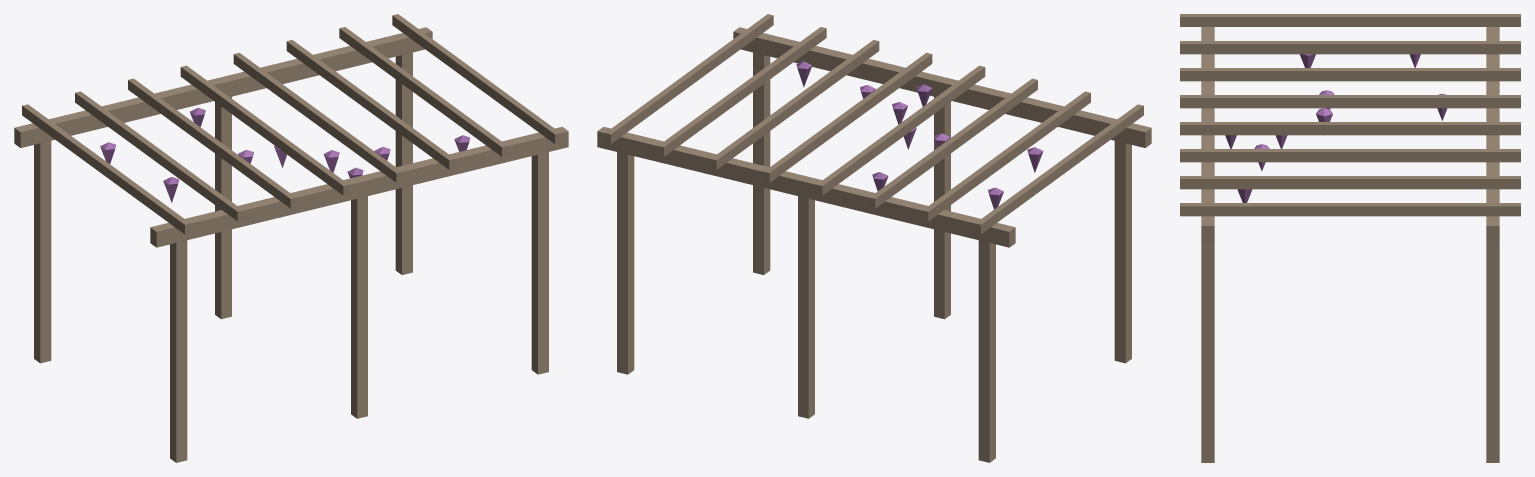
The model's file is SM_BM_BP_GardenPergola.glb.
3 views of the same model, side by side, from view 1: azimuth 30°, elevation 25°; view 2: azimuth 150°, elevation 25°; view 3: azimuth 270°, elevation 25° (orthographic). The views are drawn at different scales.
Visible parts, largest first — view 1: SM_BM_BP_GardenPergola; view 2: SM_BM_BP_GardenPergola; view 3: SM_BM_BP_GardenPergola.
Part boxes in pixels (x1,y1,x2,y2): SM_BM_BP_GardenPergola: (14,14,568,462); SM_BM_BP_GardenPergola: (597,14,1151,462); SM_BM_BP_GardenPergola: (1180,14,1520,462).
Size of the model in its own units: 4.9 by 2.8 by 3.35.
